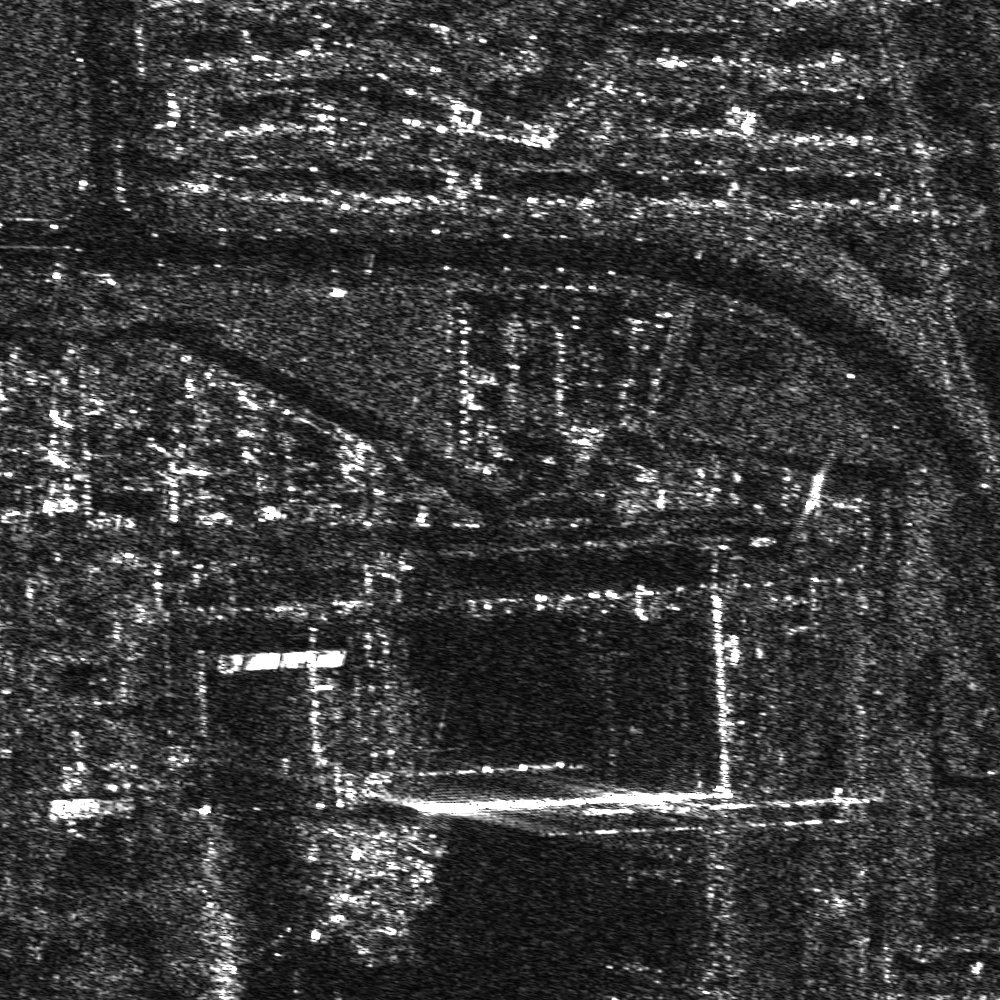A220: (605, 948, 669, 999)
